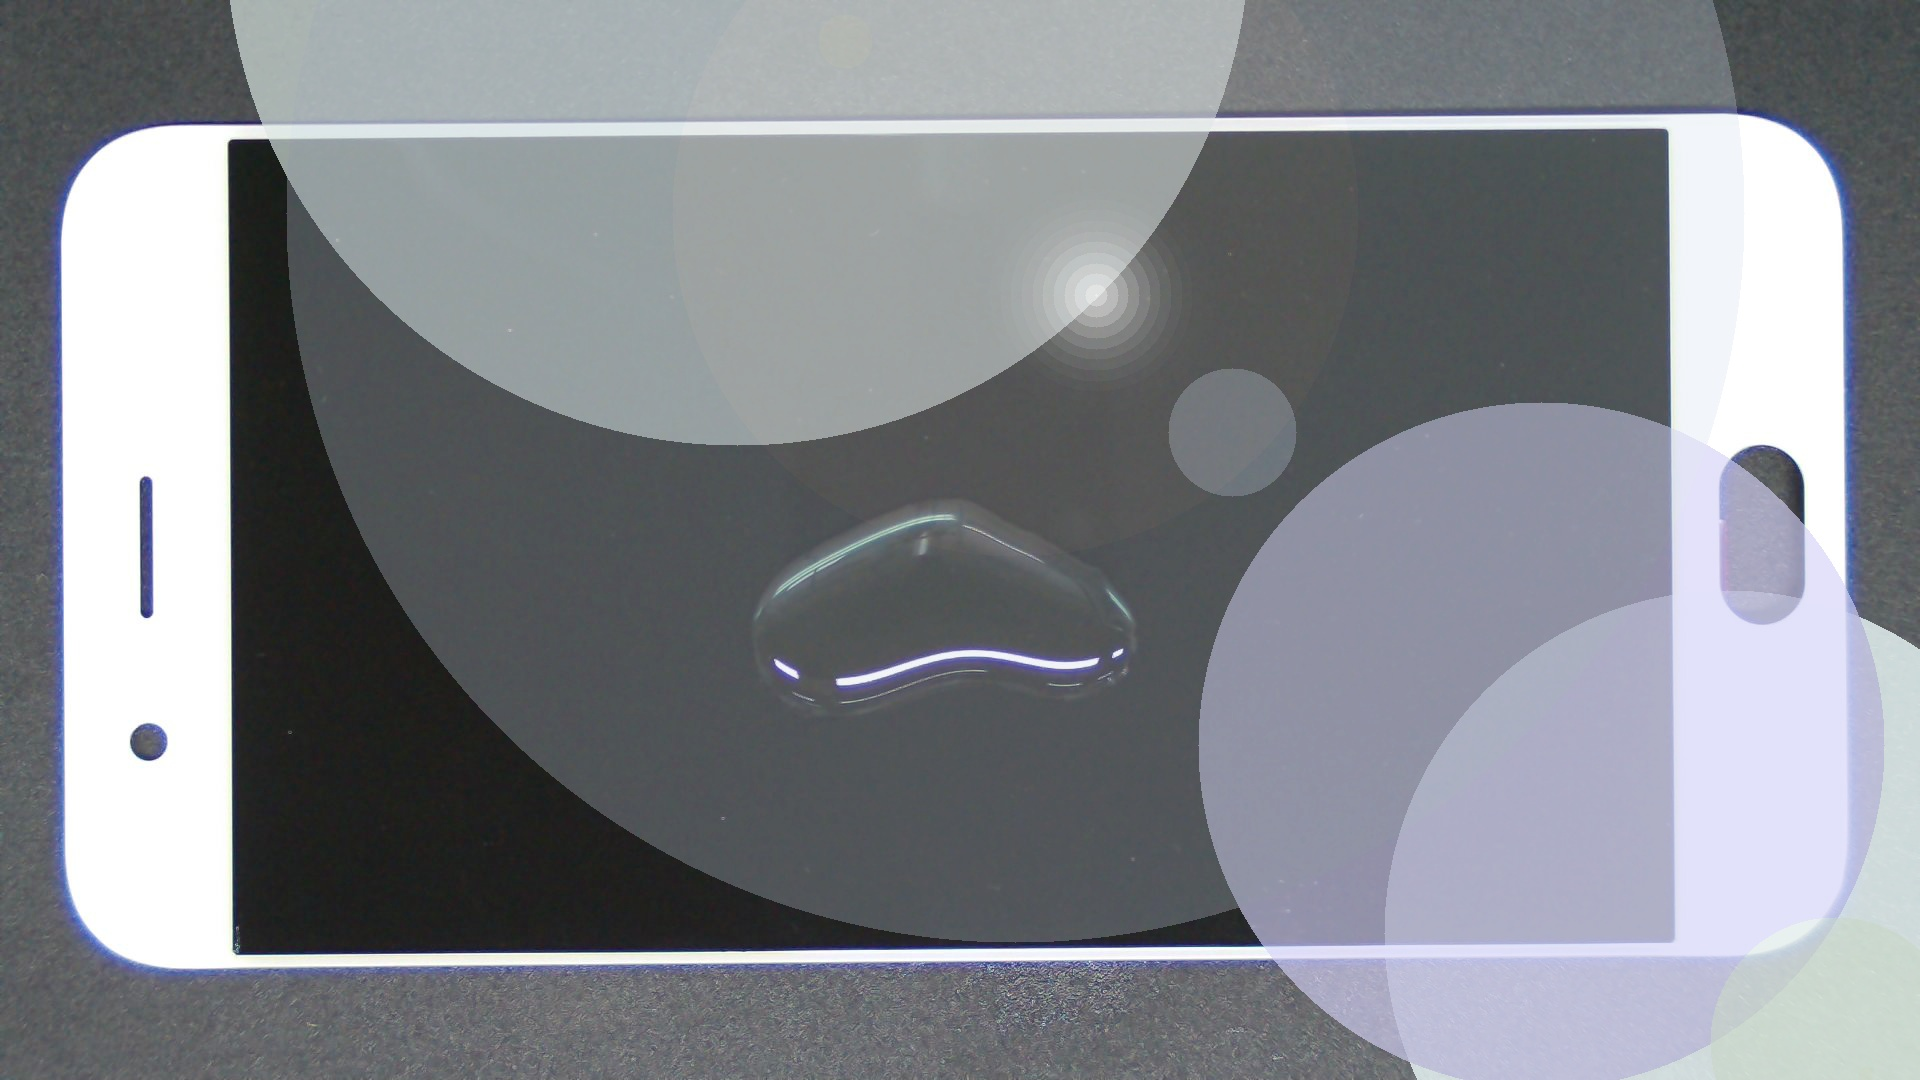oil: (480, 249, 1440, 749)
